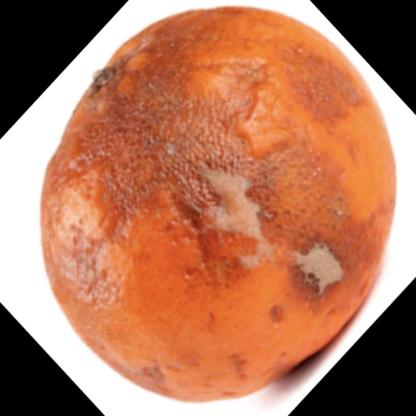rotten: (42, 7, 398, 401)
